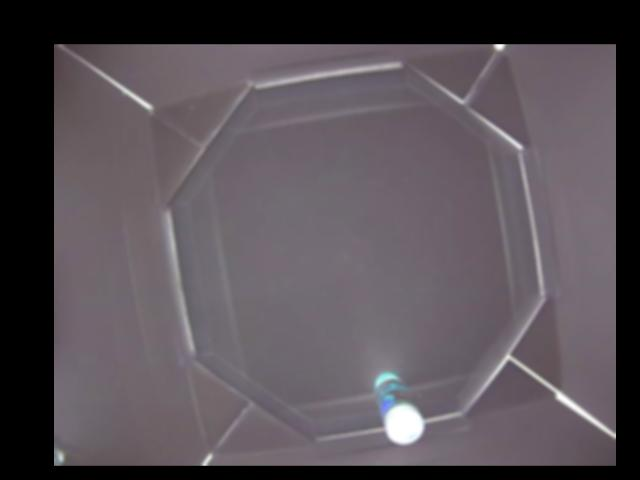Medicine: (374, 373, 425, 444)
